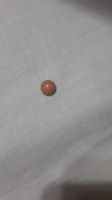Dolorex: (39, 79, 57, 96)
